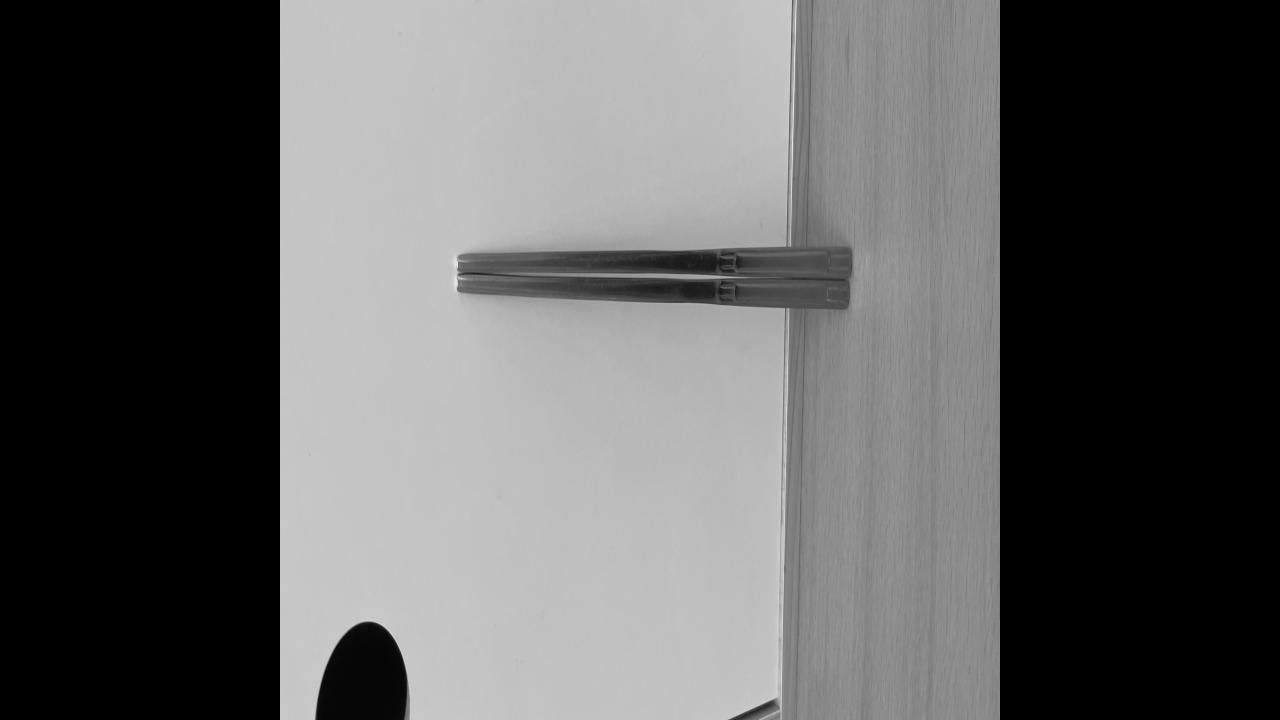chopstick: (458, 245, 852, 306)
